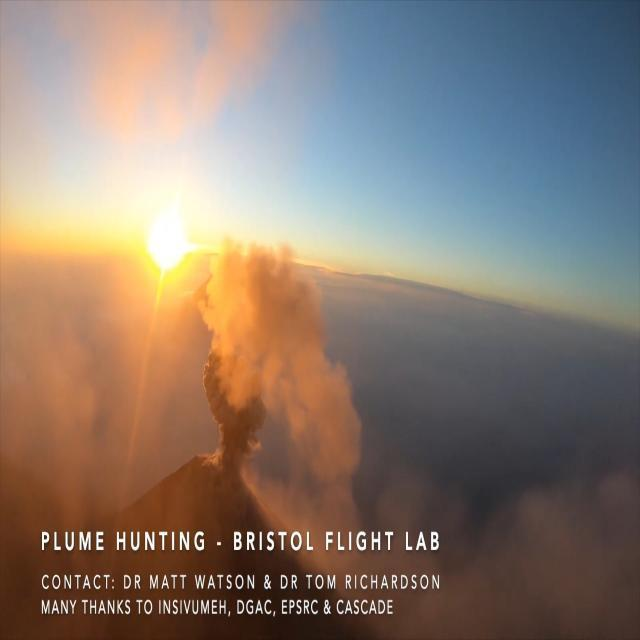Plume: (198, 234, 364, 482), (200, 333, 270, 450)
Summit: (105, 450, 302, 535)
